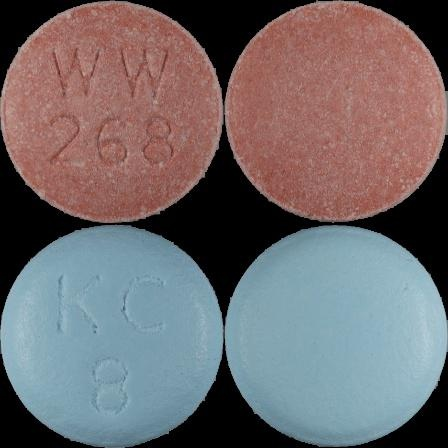55289-696: (0, 0, 224, 224)
